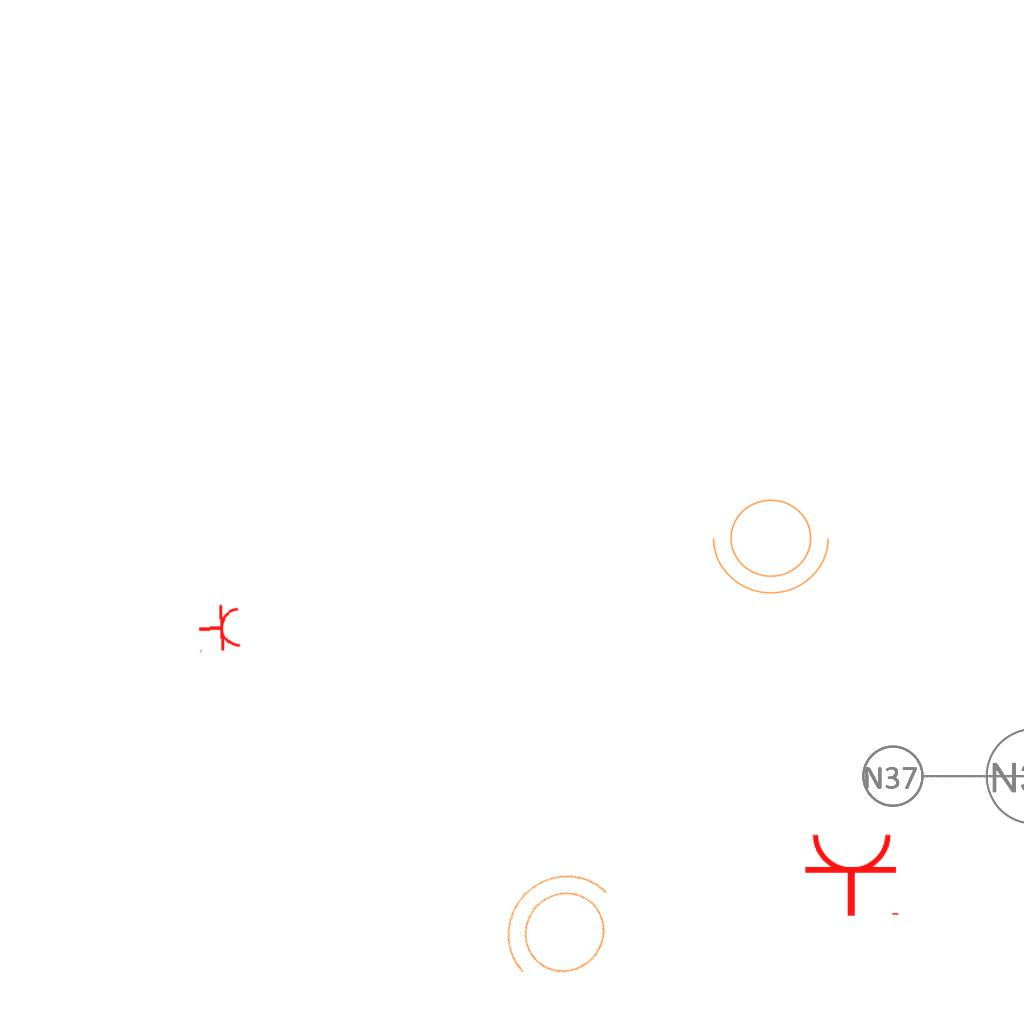Scheinwerfer_fuer_Alarmbeleuchtung: (472, 844, 646, 1018), (708, 487, 840, 599)
Schukosteckdose_einfach: (803, 831, 903, 918), (196, 602, 243, 656)
